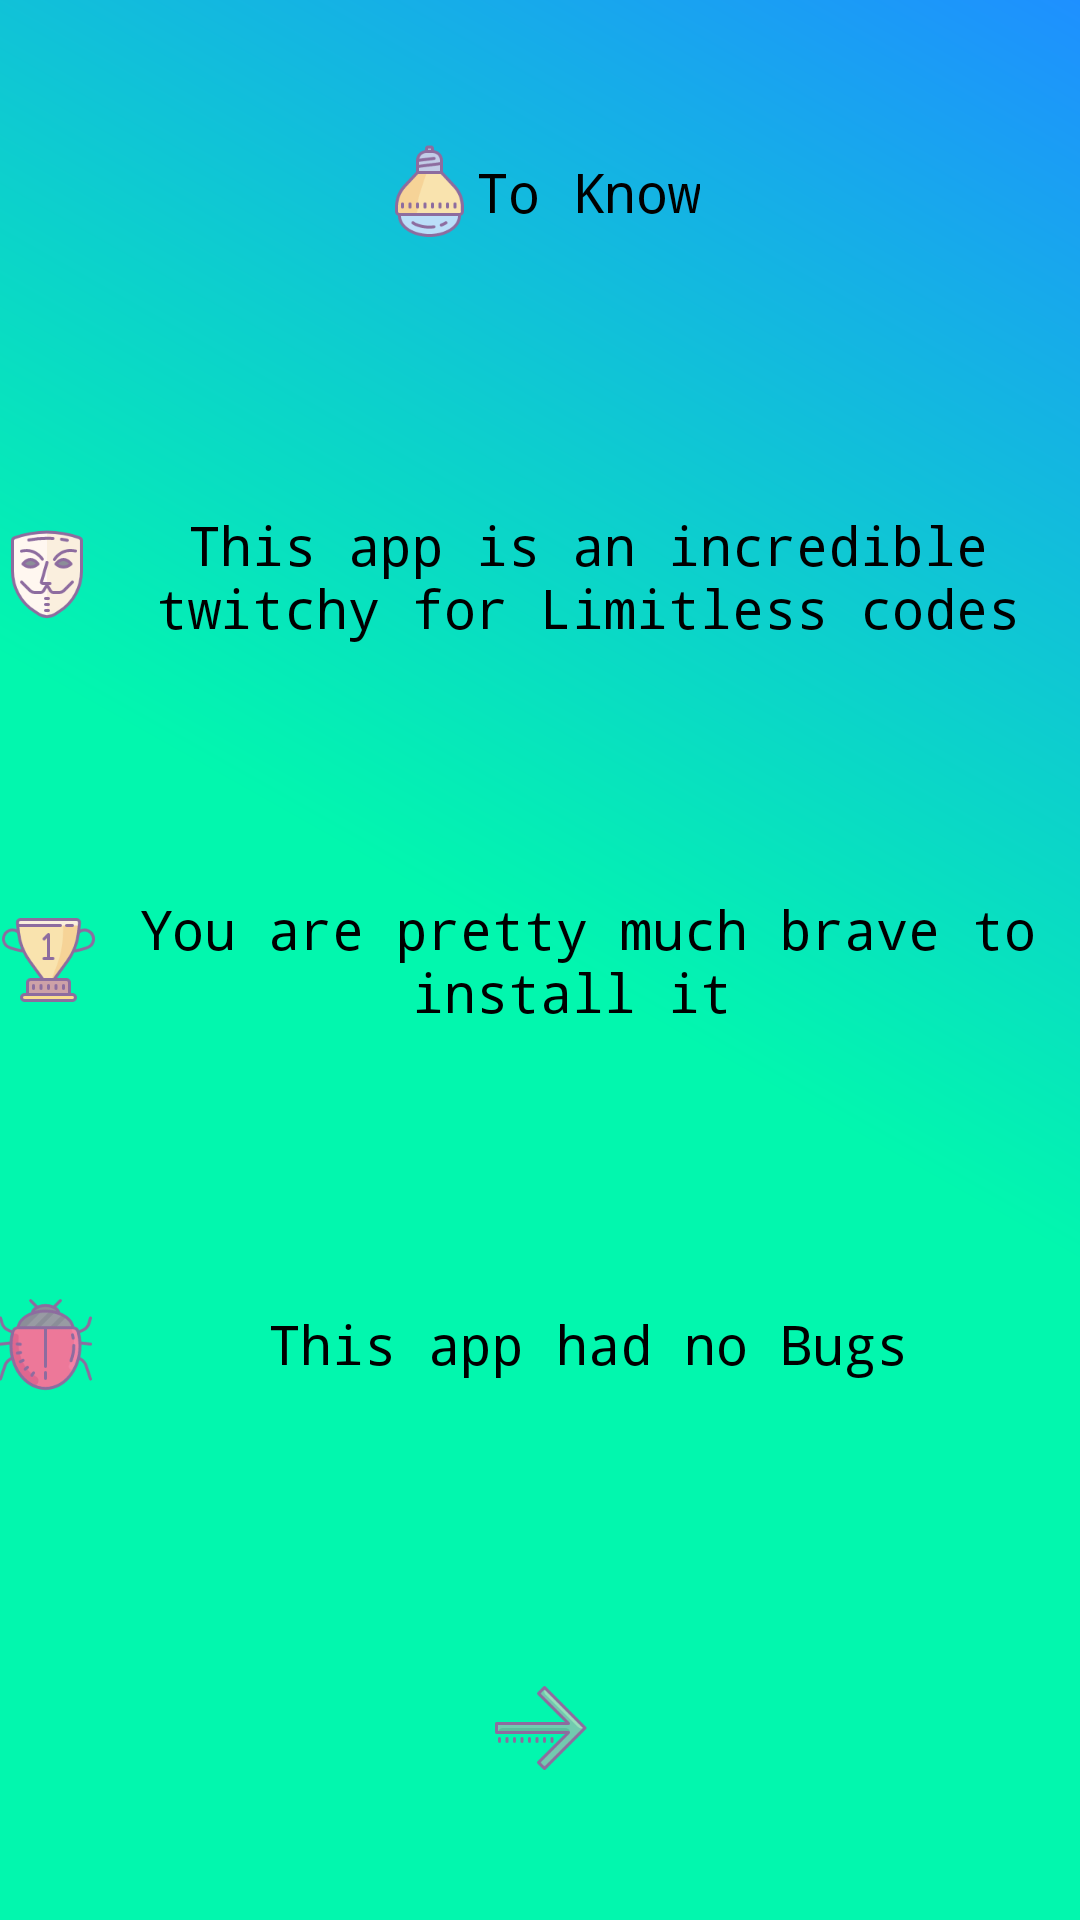

Screen size 1080w x 1920h. Icon name, then its center in pixels as (x,y):
next: (541,1728)
